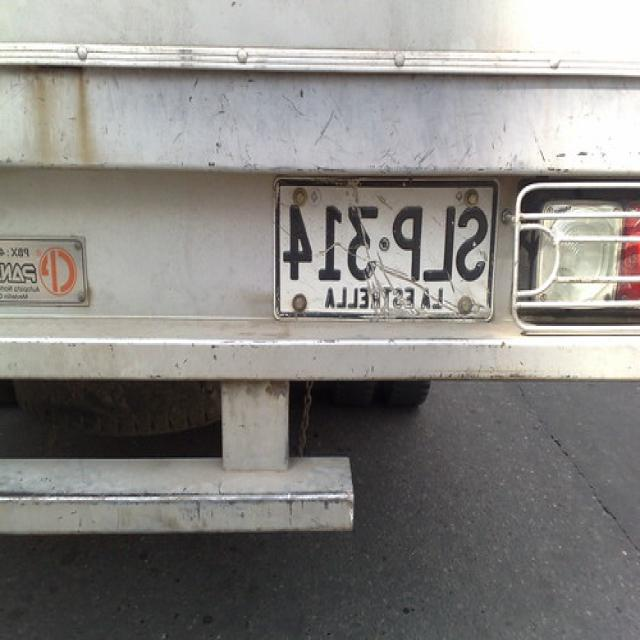placas: (279, 194, 489, 288)
